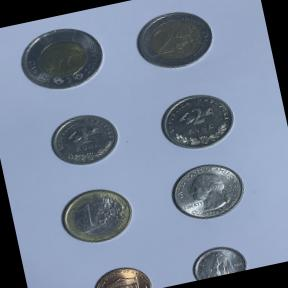1 Euro: (51, 178, 142, 254)
2 Euro: (125, 0, 223, 80)
Canda-10cent-: (184, 237, 251, 281)
Canda-2Dollar-: (7, 14, 115, 104)
Croatia-2Kune-: (152, 84, 243, 158)
US-1cent-: (82, 256, 156, 288)
US-25cent-: (160, 153, 255, 229)
